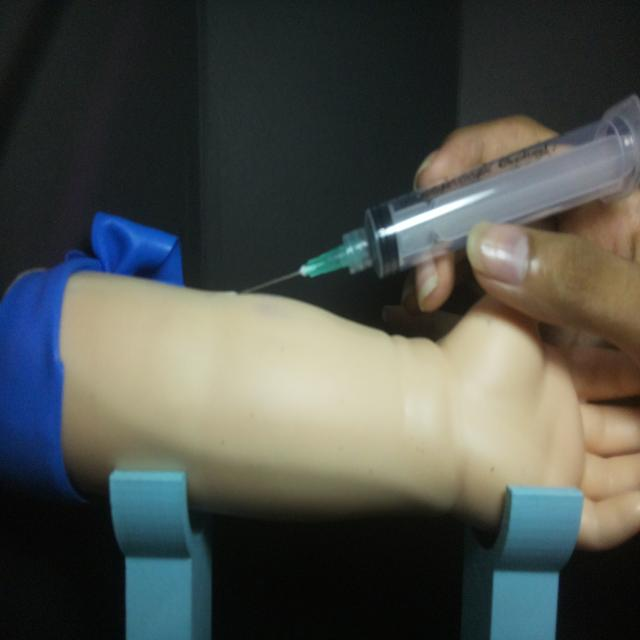19deg: (236, 90, 638, 298)
